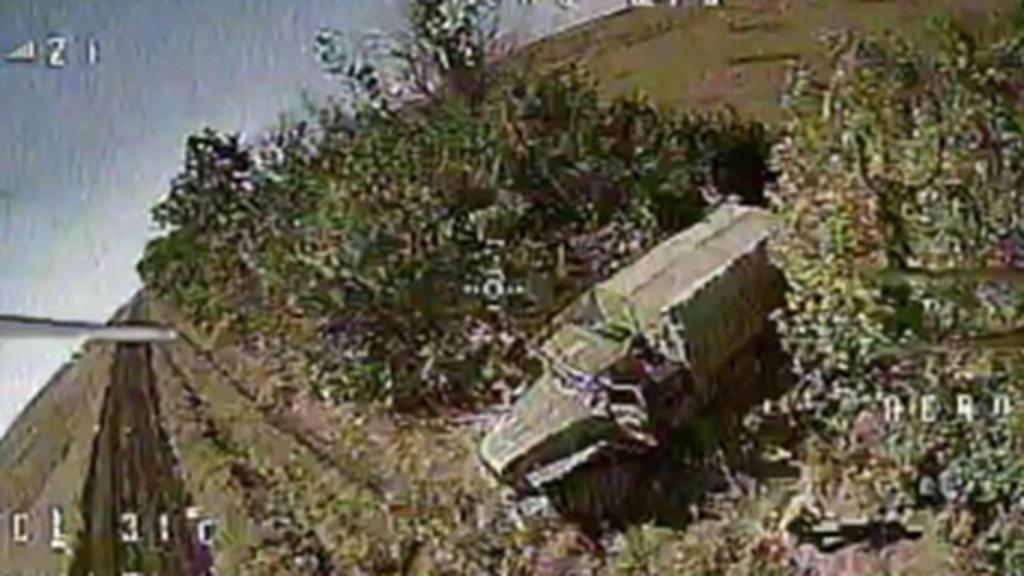TRUCK: (470, 192, 810, 514)
